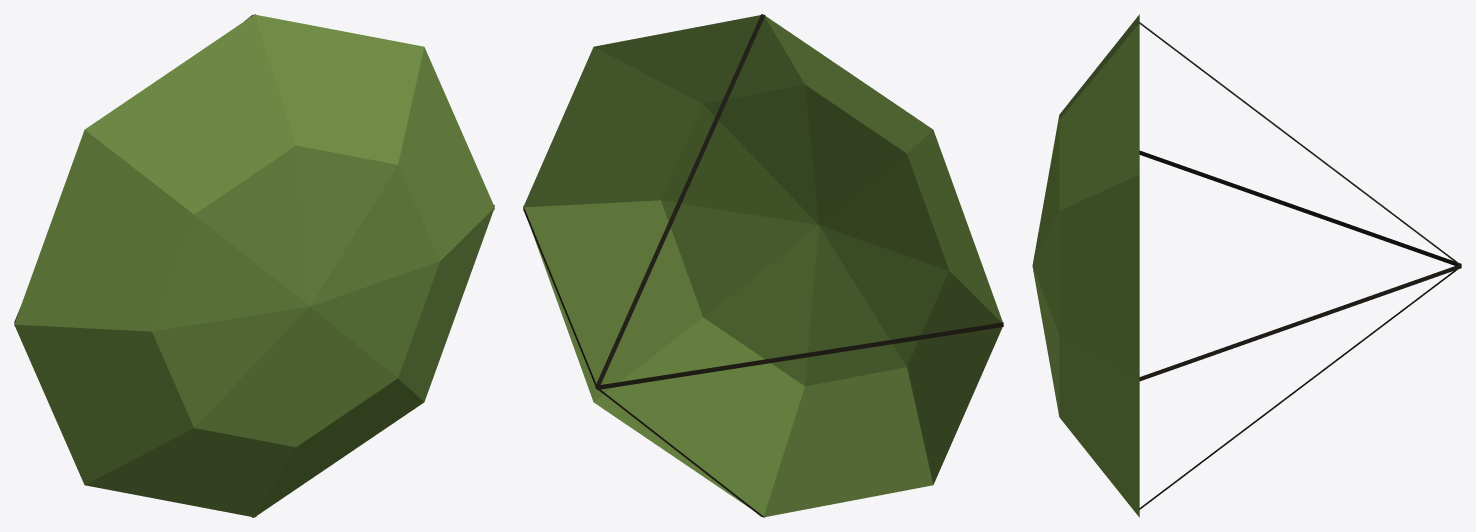
Rendered from paradrop_parachute.dae.
3 views of the same model, side by side, from view 1: azimuth 30°, elevation 25°; view 2: azimuth 150°, elevation 25°; view 3: azimuth 270°, elevation 25° (orthographic). The views are drawn at different scales.
Parts seen in each view (by area): view 1: parachute; view 2: parachute; view 3: parachute.
Part boxes in pixels (box(x1,y1,x2,y2)): parachute: box(14, 14, 494, 517); parachute: box(523, 14, 1003, 517); parachute: box(1032, 14, 1461, 517).
Size of the model in its own units: 40 by 40 by 32.
